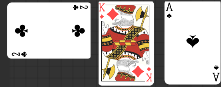2C: (72, 4, 89, 12)
AC: (166, 3, 175, 20), (11, 51, 29, 58)
